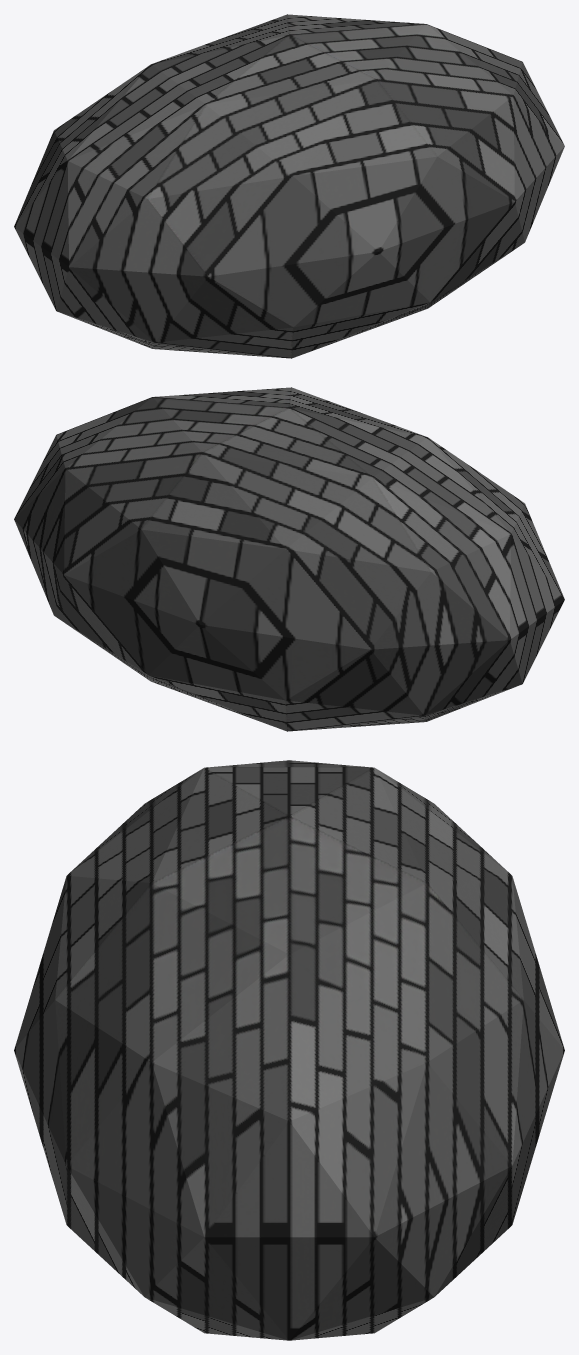
3 renders of one model, top to bottom at view 1: azimuth 30°, elevation 25°; view 2: azimuth 150°, elevation 25°; view 3: azimuth 270°, elevation 25°, orthographic. The views are drawn at different scales.
Parts seen in each view (by area): view 1: Icosphere; view 2: Icosphere; view 3: Icosphere.
Boxes of the visible parts, x1,y1,x2,y2 form: Icosphere: (14,14,564,358); Icosphere: (14,387,564,731); Icosphere: (14,760,564,1340).
Size of the model in its own units: 3.11 by 1.82 by 1.94.
Materials: 1 (1 with a texture image).
